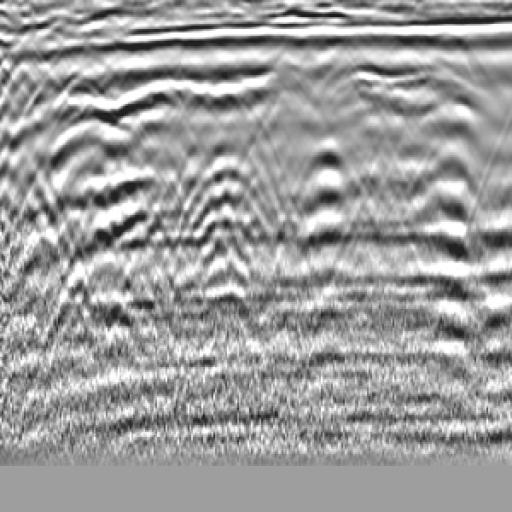metalic: (320, 55, 411, 113)
